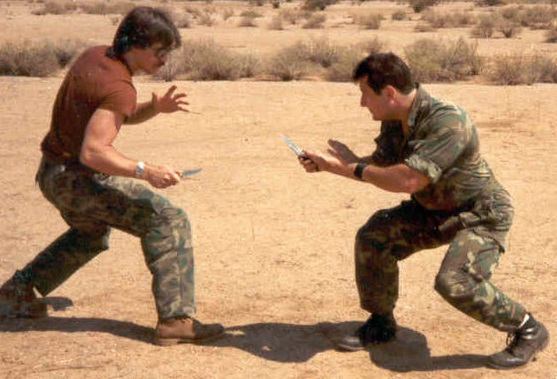knife: (270, 122, 319, 177), (147, 163, 207, 190)
